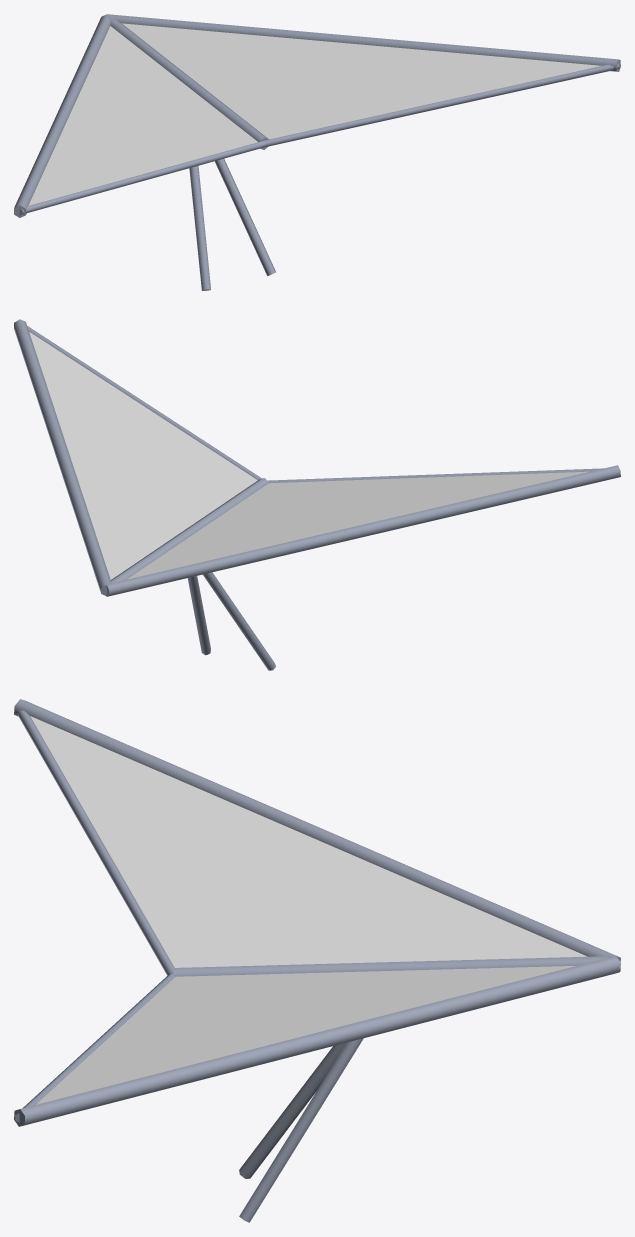
The model's file is part_wing.glb.
3 renders of one model, top to bottom at view 1: azimuth 30°, elevation 25°; view 2: azimuth 150°, elevation 25°; view 3: azimuth 270°, elevation 25°, orthographic. The views are drawn at different scales.
Parts seen in each view (by area): view 1: part_wing; view 2: part_wing; view 3: part_wing.
Part boxes in pixels (x1=…): part_wing: x1=14, y1=14, x2=620, y2=290; part_wing: x1=14, y1=319, x2=620, y2=670; part_wing: x1=14, y1=699, x2=620, y2=1222.
Bounding box in the file's own units: 2.23 × 0.7407 × 1.38.
